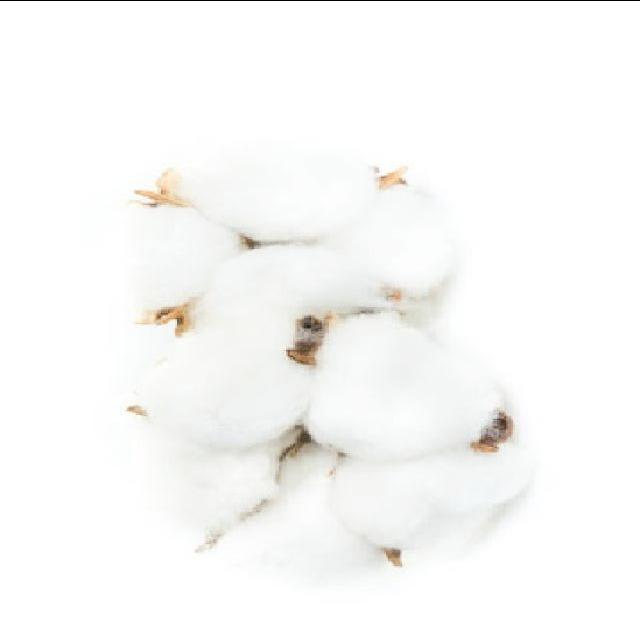Matured Cotton Boll: (133, 342, 523, 574), (126, 143, 434, 360)
